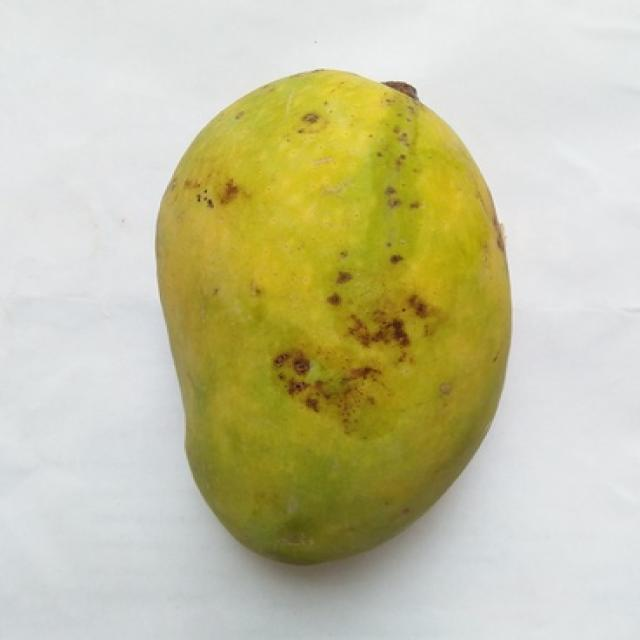Mango: (158, 70, 510, 560)
